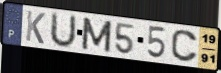5: (146, 24, 167, 60), (115, 22, 137, 55)
C: (170, 29, 200, 64)
K: (24, 9, 47, 46)
M: (80, 16, 114, 54)
U: (48, 11, 78, 49)
